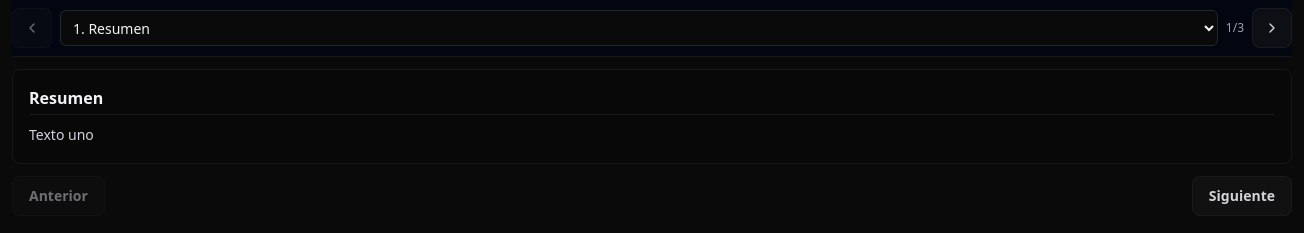
Test: ThesisMarkdownPager › navega con anterior/siguiente y selector; límites deshabilitados
Expected: the text "Texto uno" is shown, [29,125,94,144]
Expected: the text "1/3" is shown, [1226,20,1244,36]
Click the button "Siguiente".
click(1242, 196)  # box [1192,176,1292,216]
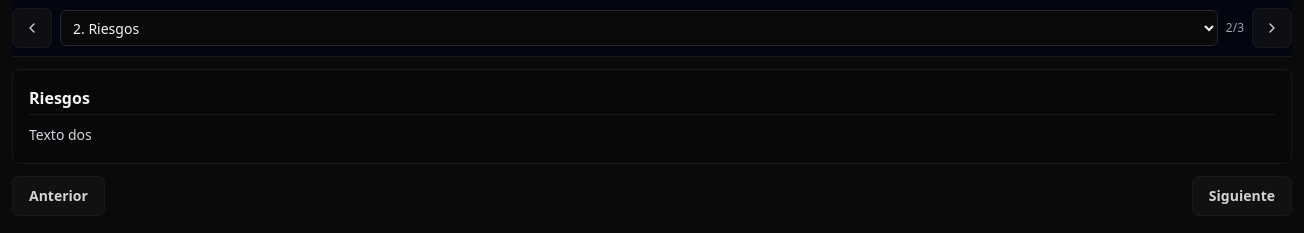
Now the text "Texto dos" is shown, box [29,125,92,144]
Select "3. Fin" in the dropdown named "Sección del memorando" at (639, 28), box [60,10,1218,46]
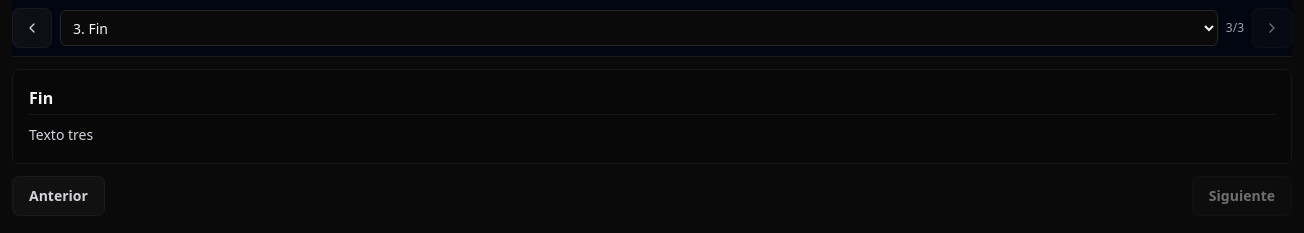
Expected: the button named "Sección siguiente" is disabled, [1252,8,1292,48]
Now the text "Texto tres" is shown, box [29,125,93,144]
Now the text "3/3" is shown, box [1226,20,1244,36]
